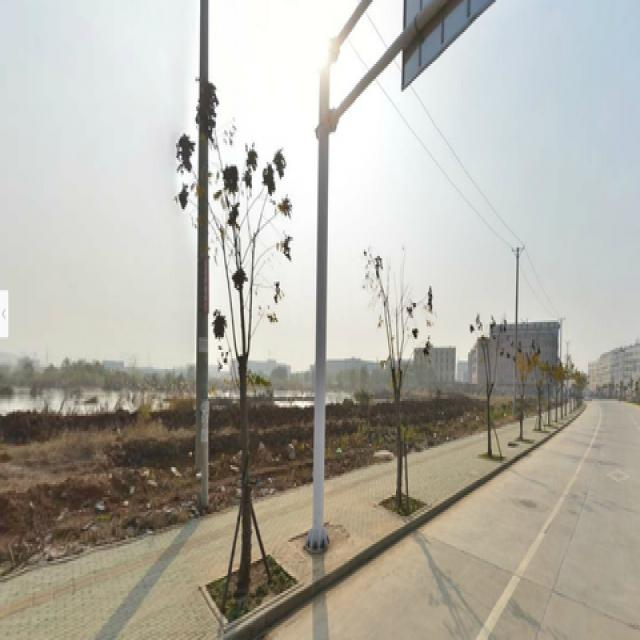koel: (199, 122, 289, 591), (369, 269, 434, 497), (474, 299, 506, 484)
